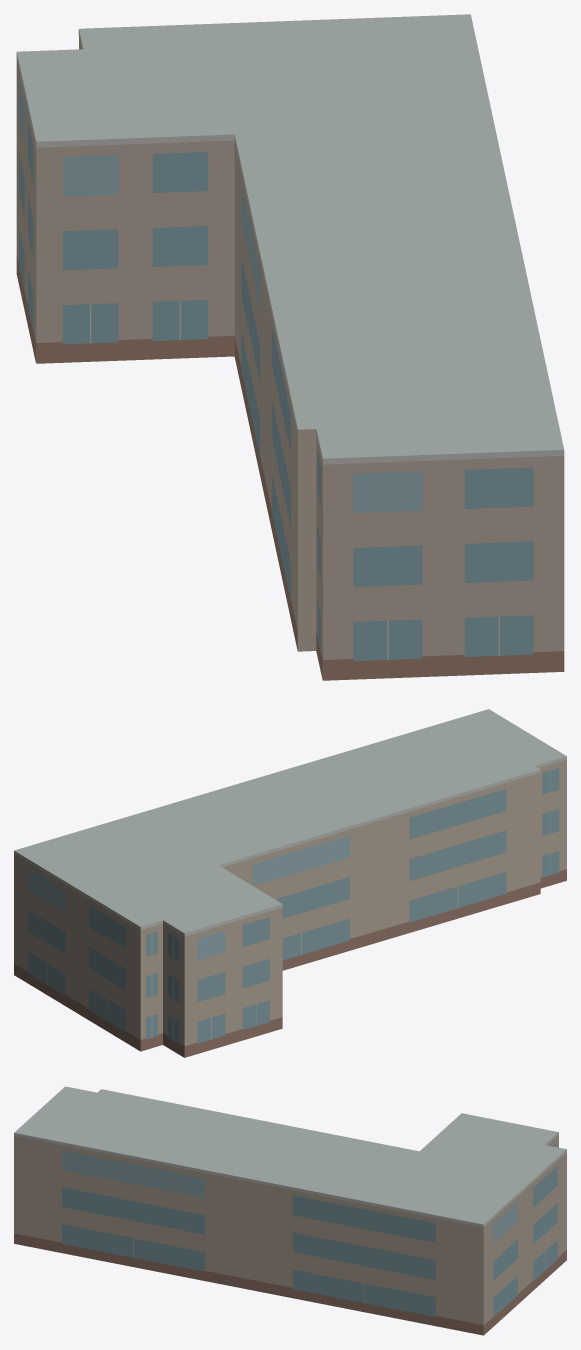
The model's file is survey-upis-32696908.glb.
3 renders of one model, top to bottom at view 1: azimuth 30°, elevation 25°; view 2: azimuth 150°, elevation 25°; view 3: azimuth 270°, elevation 25°, orthographic. The views are drawn at different scales.
Visible parts, largest first — view 1: survey-upis-32696908.tmp; view 2: survey-upis-32696908.tmp; view 3: survey-upis-32696908.tmp.
Boxes of the visible parts, x1,y1,x2,y2 form: survey-upis-32696908.tmp: (16,14,564,680); survey-upis-32696908.tmp: (14,709,566,1057); survey-upis-32696908.tmp: (14,1086,566,1335).
Bounding box in the file's own units: 24.45 × 9.15 × 41.33.
